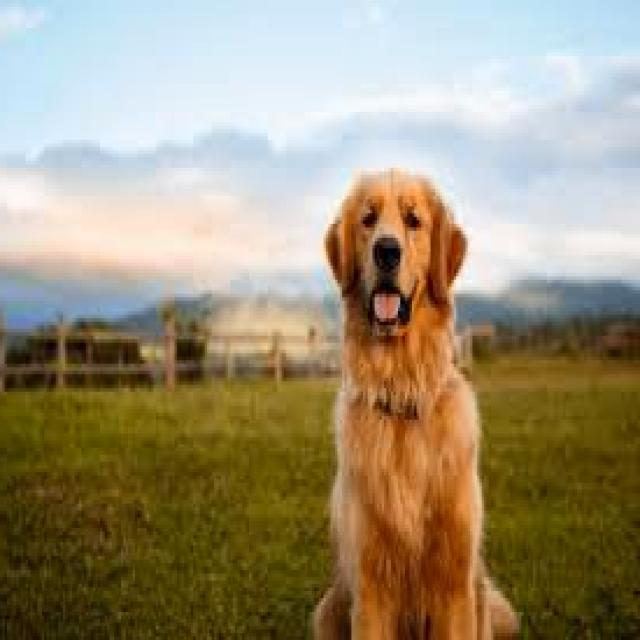dog: (317, 168, 517, 637)
